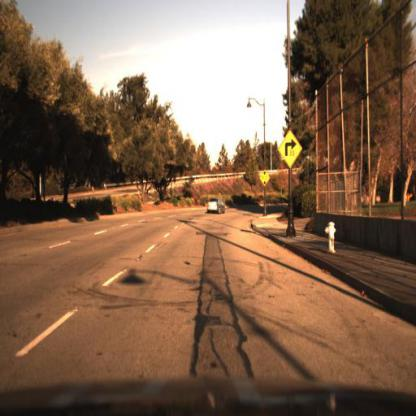car: (205, 193, 224, 216)
